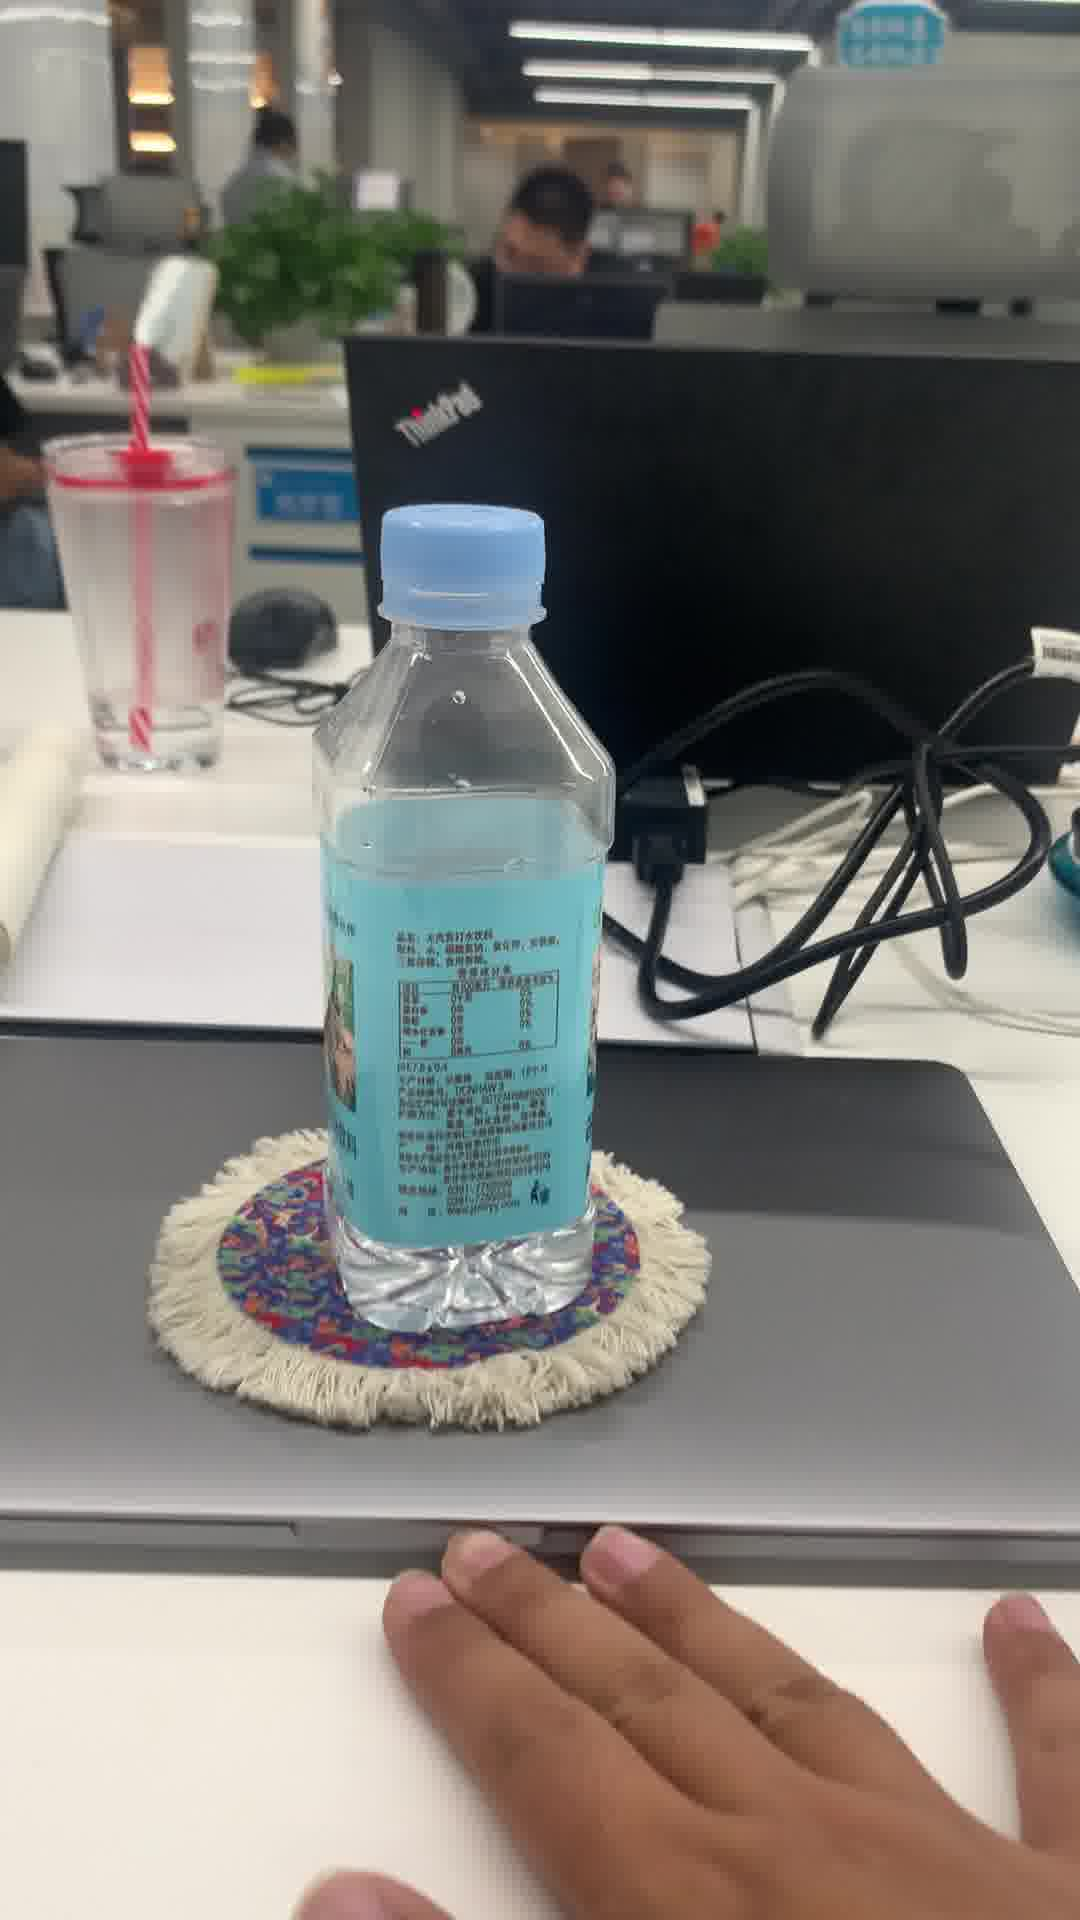水瓶: (307, 497, 616, 1345)
